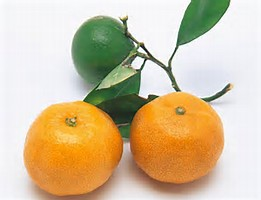orange: (128, 84, 226, 185), (23, 101, 123, 195)
